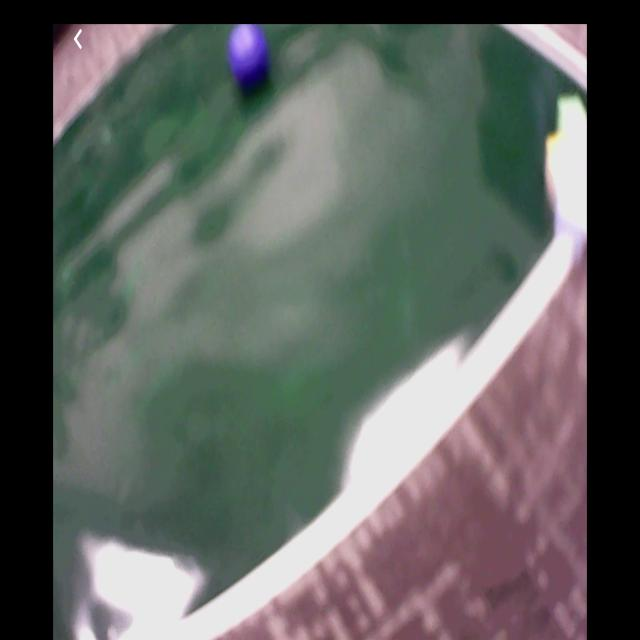ball: (230, 26, 271, 86)
